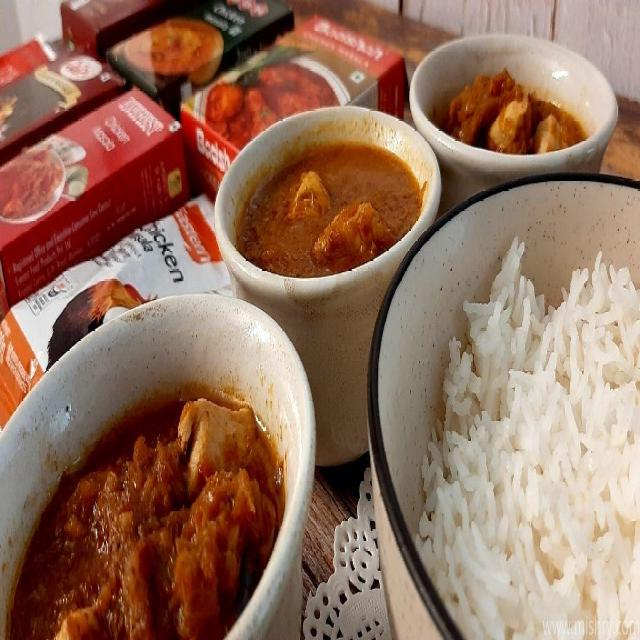chicken: (16, 366, 255, 640), (250, 162, 404, 277), (436, 75, 593, 173)
rice: (422, 255, 631, 640)
